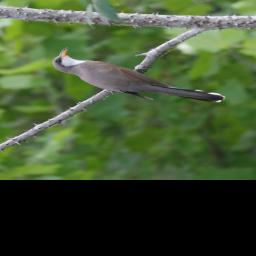Cuckoo: (50, 47, 227, 106)
